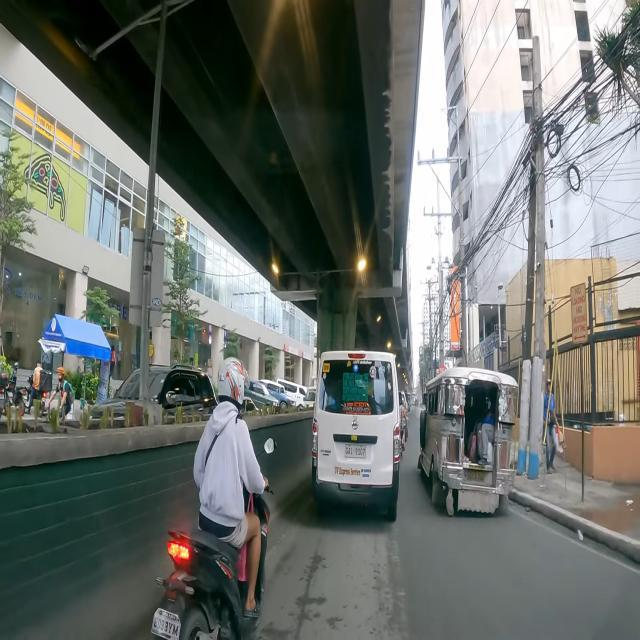bike: (44, 365, 76, 422)
car: (312, 352, 401, 524), (85, 362, 219, 430)
jeepney: (417, 366, 519, 516)
motorcycle: (150, 356, 277, 640), (26, 359, 53, 416), (6, 363, 28, 416), (0, 372, 9, 423)
